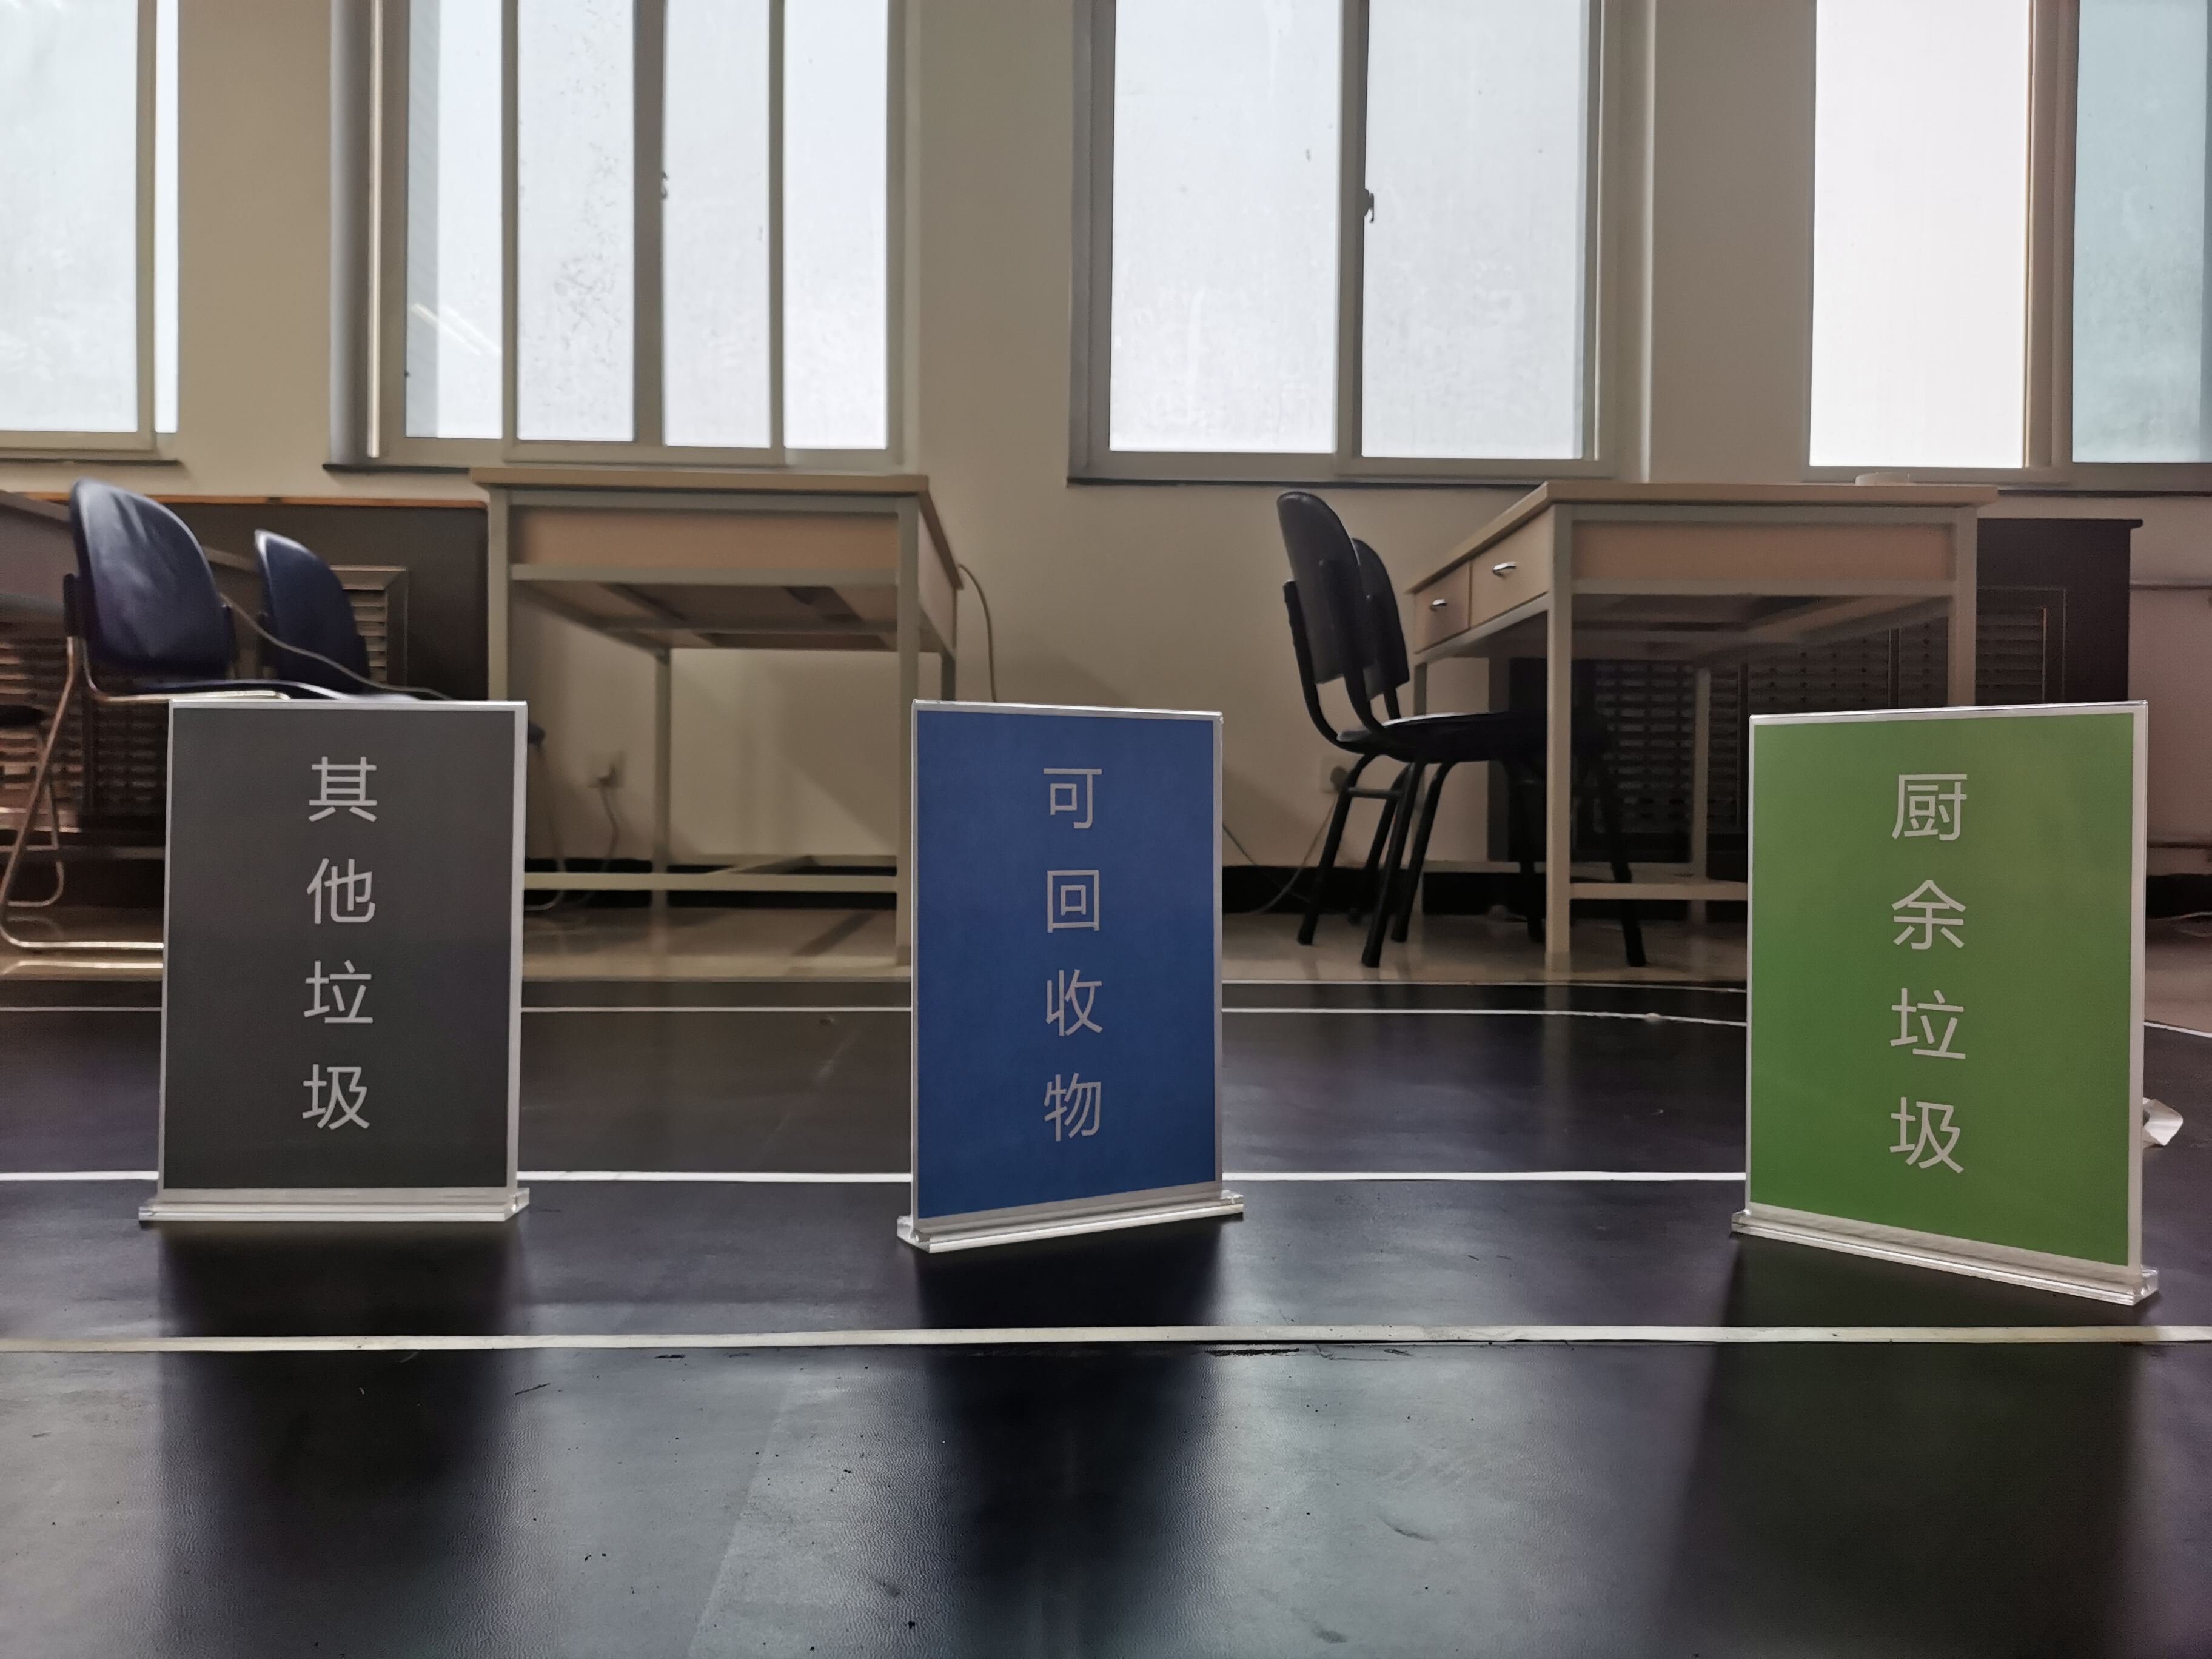black: (179, 718, 496, 1183)
blue: (932, 727, 1207, 1176)
green: (1756, 730, 2125, 1204)
